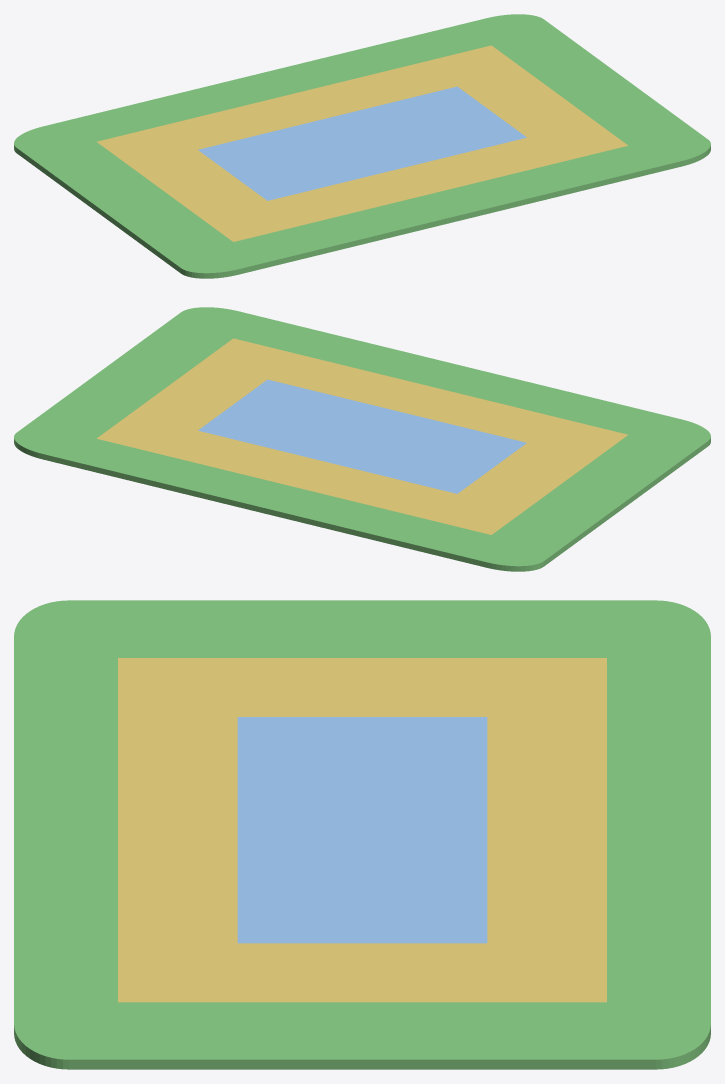
File: rug.glb
The picture shows the model from 3 angles, top to bottom: view 1: azimuth 30°, elevation 25°; view 2: azimuth 150°, elevation 25°; view 3: azimuth 270°, elevation 25°; orthographic projection. The views are drawn at different scales.
Visible parts, largest first — view 1: Outer, Between, Center; view 2: Outer, Between, Center; view 3: Outer, Between, Center.
Boxes of the visible parts, x1=… form: Outer: x1=14, y1=14, x2=710, y2=278; Between: x1=96, y1=45, x2=627, y2=241; Center: x1=198, y1=86, x2=526, y2=200; Outer: x1=14, y1=307, x2=710, y2=571; Between: x1=97, y1=338, x2=628, y2=534; Center: x1=198, y1=379, x2=526, y2=493; Outer: x1=14, y1=600, x2=710, y2=1069; Between: x1=118, y1=658, x2=606, y2=1002; Center: x1=237, y1=717, x2=487, y2=943.
Bounding box in the file's own units: 3.81 × 0.0381 × 2.44.
